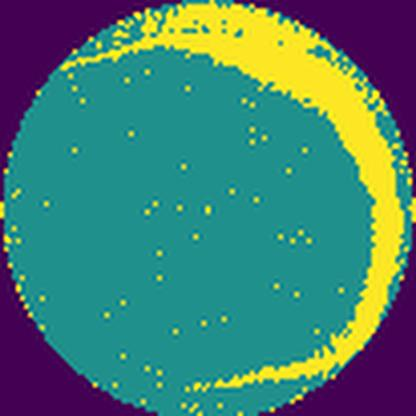Edge-Loc: (60, 0, 416, 389)
